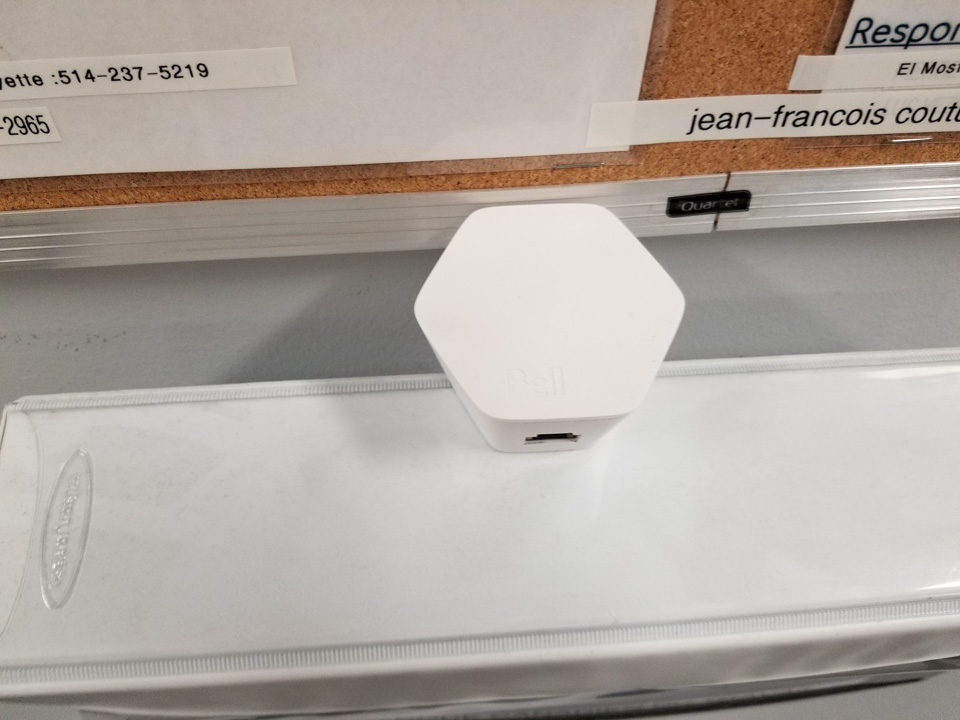pod: (410, 200, 691, 461)
